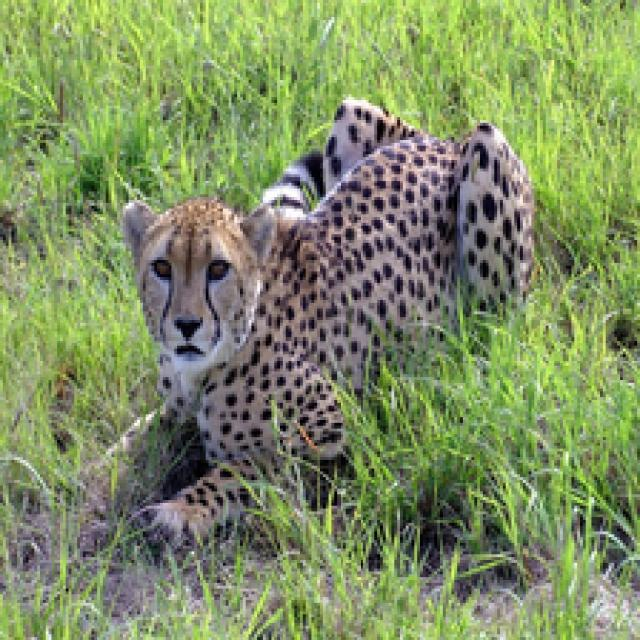cheetah: (97, 84, 550, 632)
